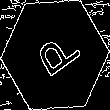P_SW: (27, 26, 83, 84)
